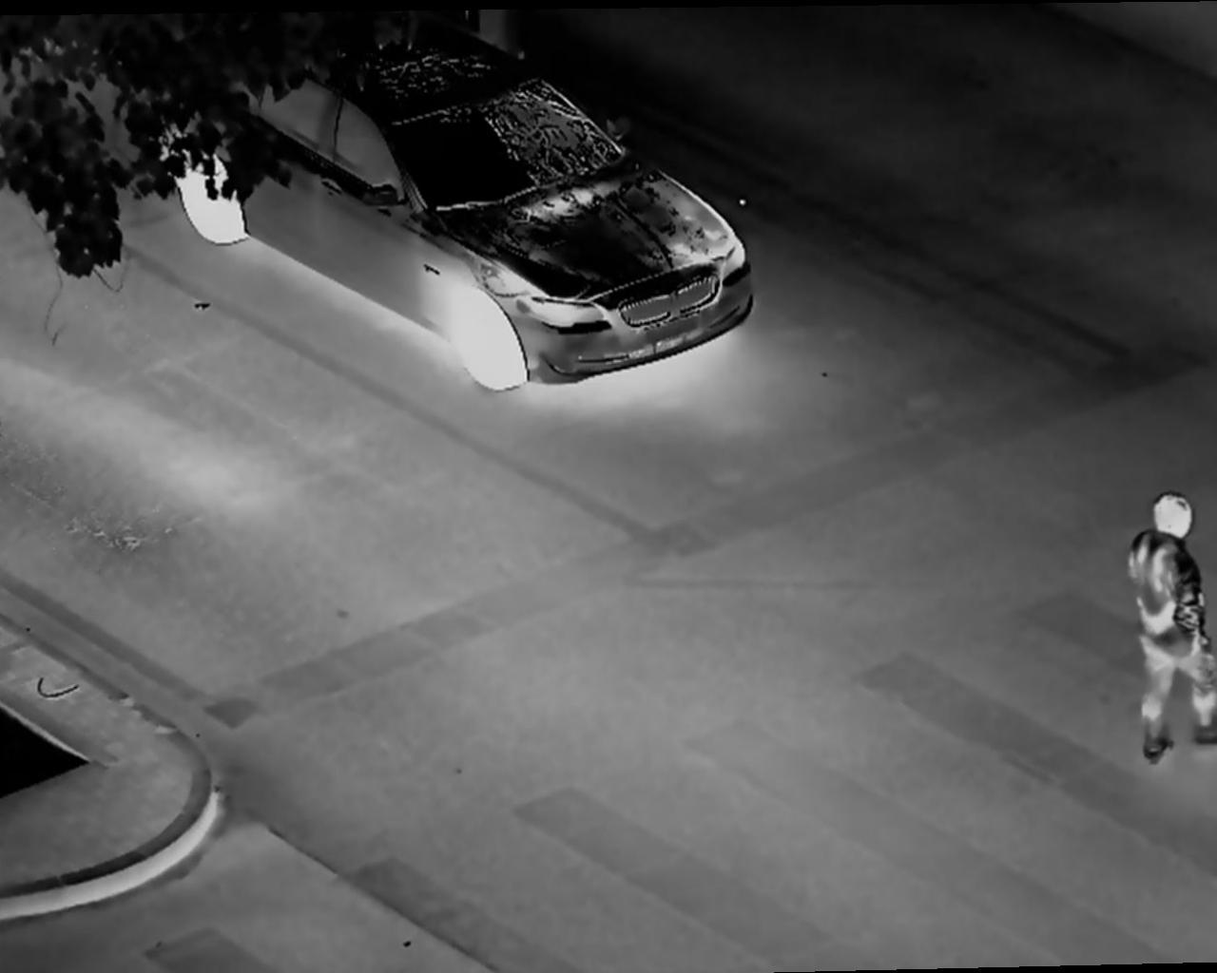person: (1118, 484, 1217, 757)
